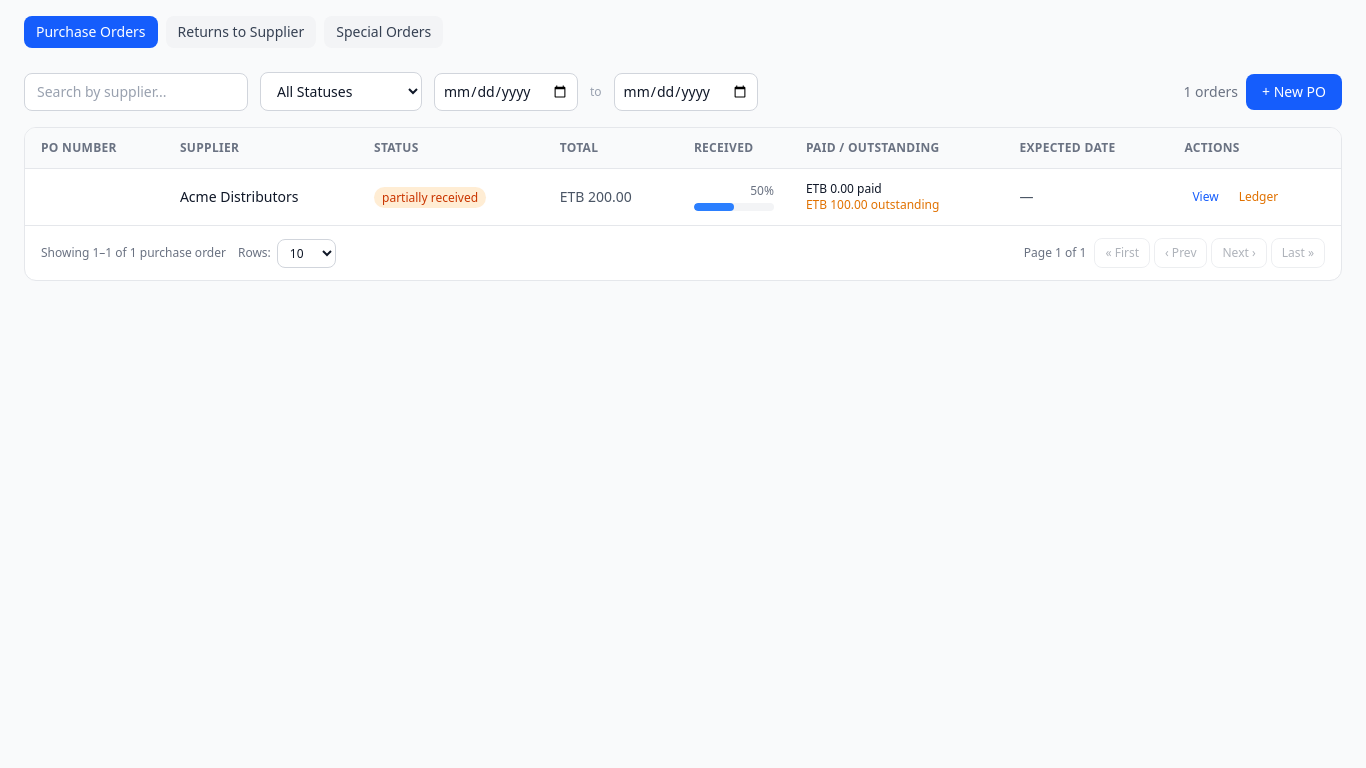
ProcurementPage › shows a new order in the shop's currency, with none to type (#181; was: always ETB)
The image size is (1366, 768).
Click the button "+ New PO" at {"x": 1294, "y": 92}, box [1246,74,1342,110]
(page scrolled)
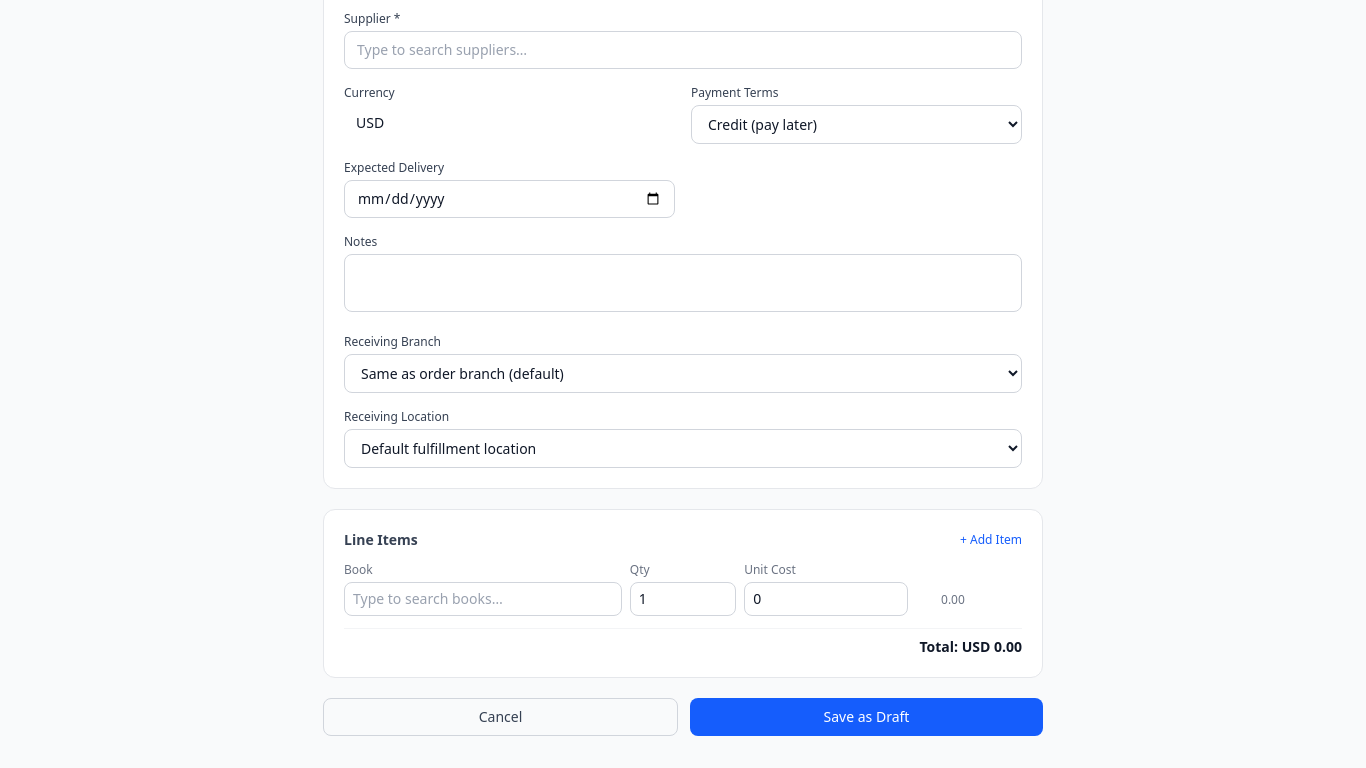
Result: the text "Currency" is shown at [344,84,395,101]
Result: the text "USD" is shown at [356,113,384,132]
Result: the text "Total: USD 0.00" is shown at [919,637,1022,657]
